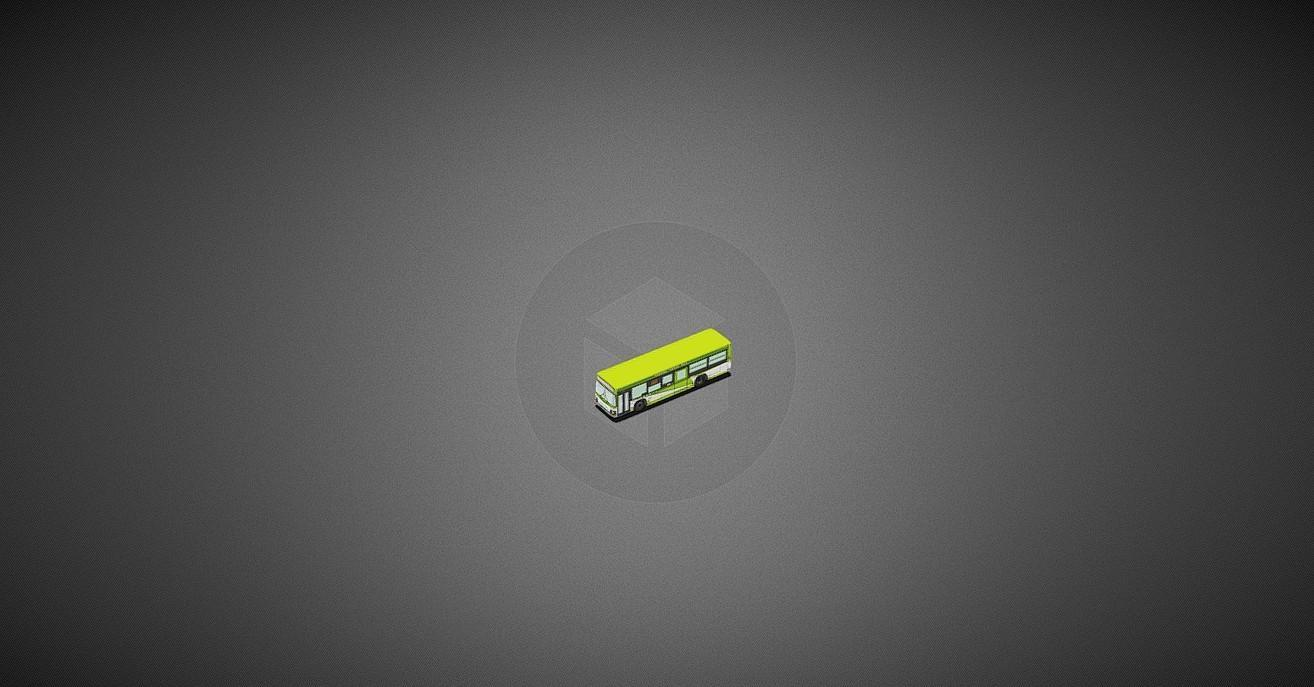Bus: (593, 327, 732, 422)
